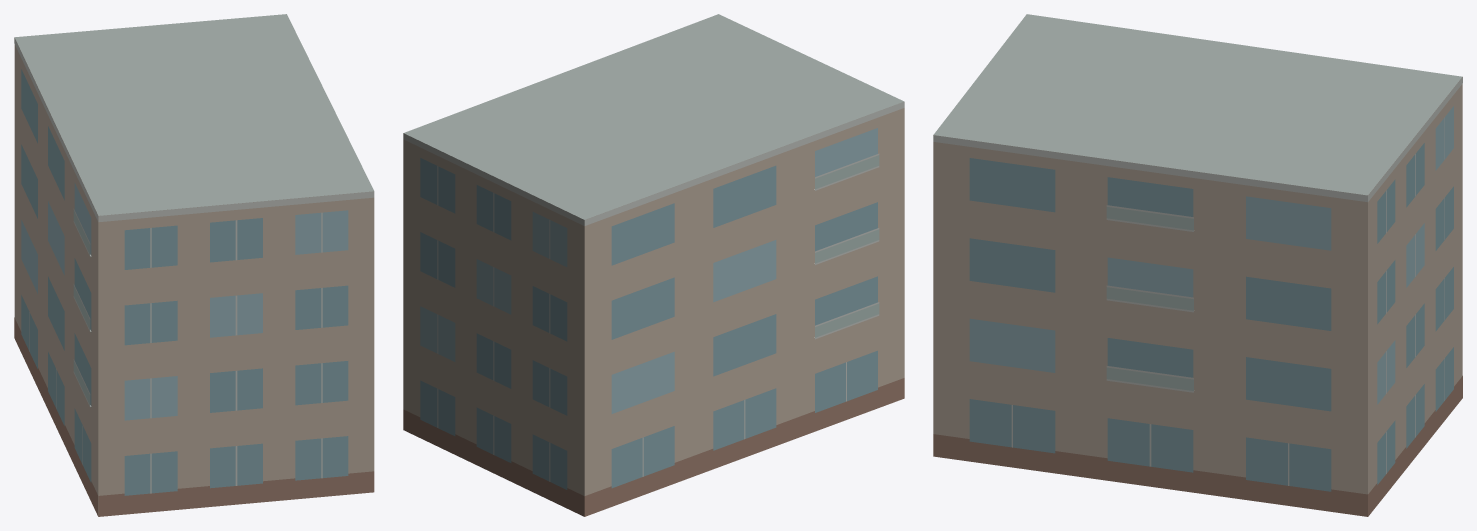
File: survey-upis-32889184.glb
3 renders of one model, left to right at view 1: azimuth 30°, elevation 25°; view 2: azimuth 150°, elevation 25°; view 3: azimuth 270°, elevation 25°, orthographic. The views are drawn at different scales.
Visible parts, largest first — view 1: survey-upis-32889184.tmp; view 2: survey-upis-32889184.tmp; view 3: survey-upis-32889184.tmp.
Boxes of the visible parts, x1,y1,x2,y2 form: survey-upis-32889184.tmp: [14, 14, 374, 516]; survey-upis-32889184.tmp: [403, 14, 904, 516]; survey-upis-32889184.tmp: [933, 14, 1462, 516].
Size of the model in its own units: 14.05 by 11.6 by 17.33.
